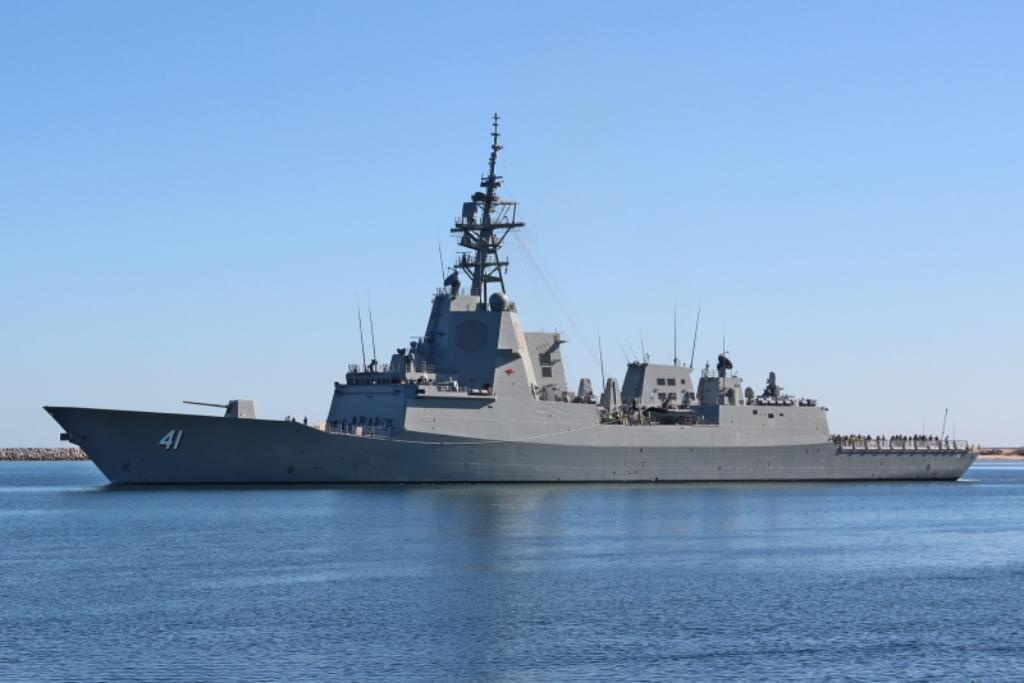Warship: (40, 99, 982, 490)
